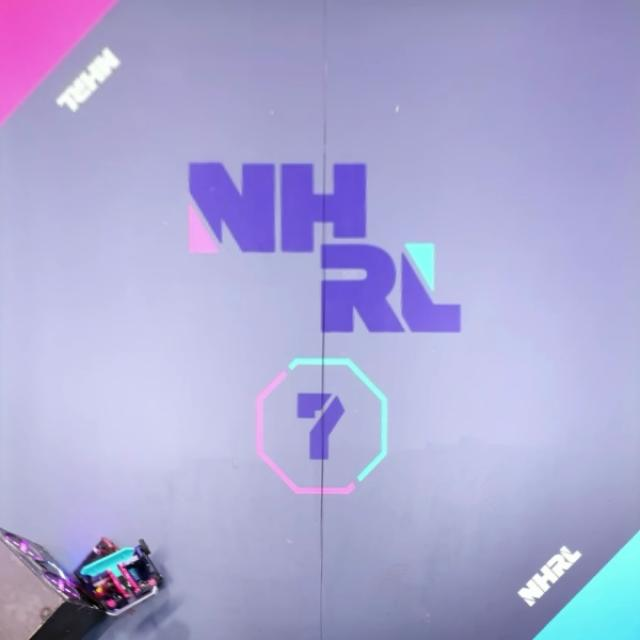housebot: (0, 527, 99, 640)
robot: (75, 542, 164, 618), (76, 537, 118, 599)
